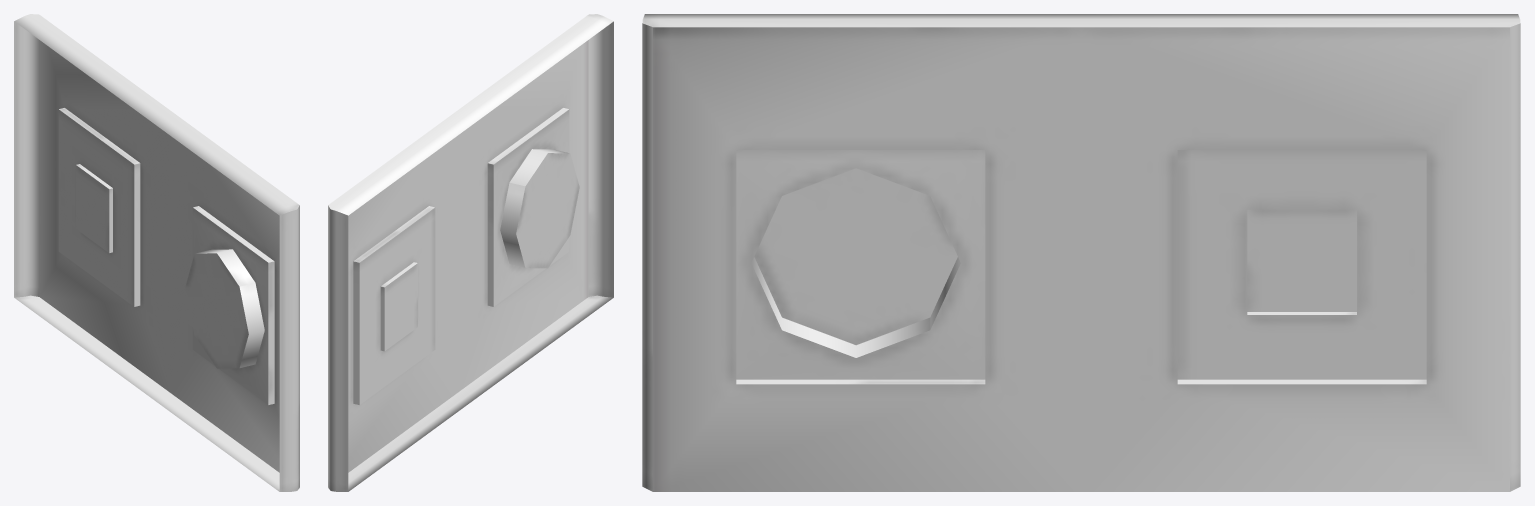
The model's file is CDC_3socket.fbx.
3 renders of one model, left to right at view 1: azimuth 30°, elevation 25°; view 2: azimuth 150°, elevation 25°; view 3: azimuth 270°, elevation 25°, orthographic. The views are drawn at different scales.
Parts seen in each view (by area): view 1: prop_CDC_3socket; view 2: prop_CDC_3socket; view 3: prop_CDC_3socket.
Part boxes in pixels (x1,y1,x2,y2): prop_CDC_3socket: [14, 14, 299, 491]; prop_CDC_3socket: [328, 14, 613, 491]; prop_CDC_3socket: [642, 14, 1520, 491].
Bounding box in the file's own units: 0.0128 × 0.1517 × 0.2597.
